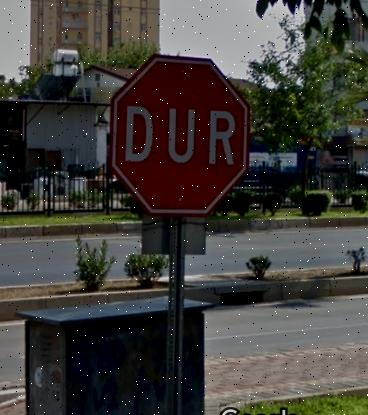stop: (113, 54, 249, 209)
